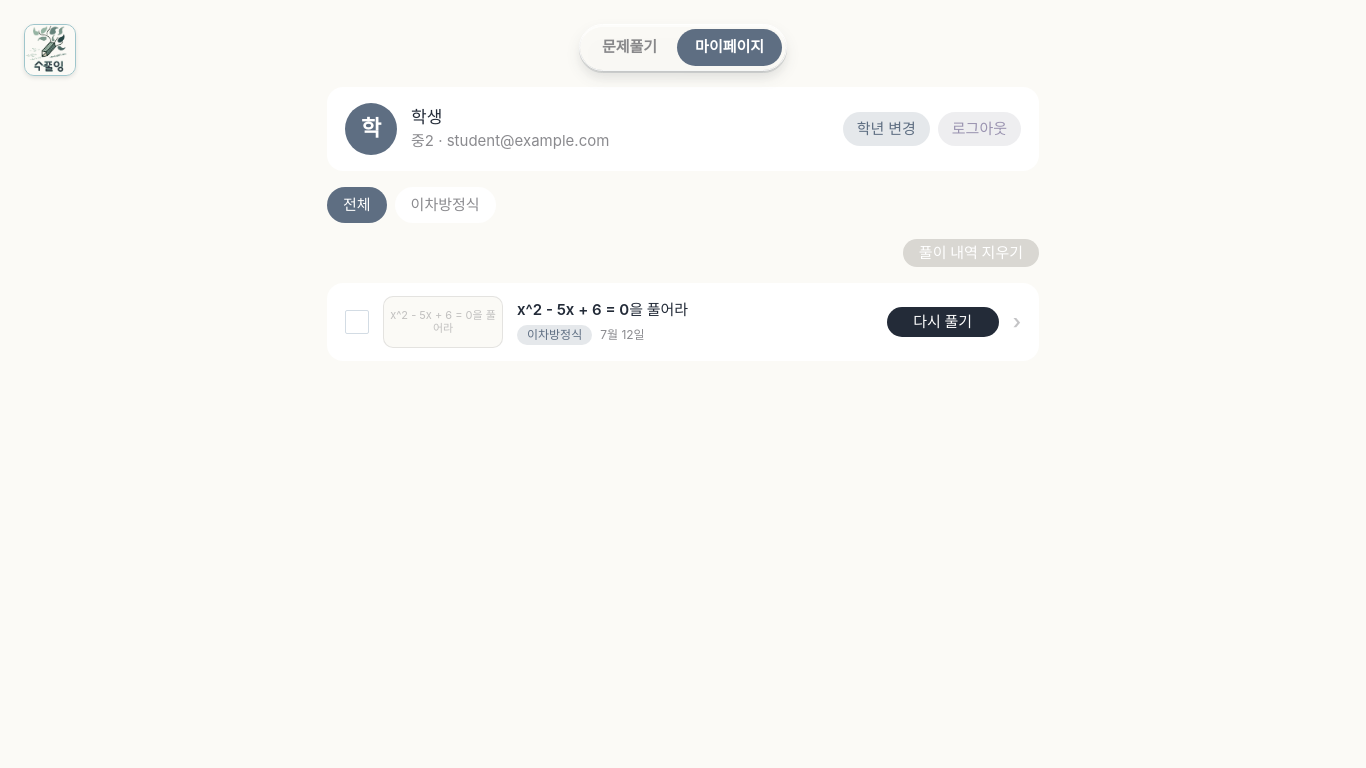
Test: 마이페이지 개선 4번 — History Row '다시풀기' 버튼을 누르면 /solve/pencilcanvas로 이동해 WORK 단계가 된다 › MyPage에서 '다시풀기'를 누르면 /solve/pencilcanvas로 이동하고 곧바로 WORK 단계가 된다
Click the button with aria-label "다시 풀기 x^2 - 5x + 6 = 0을 풀어라" at (943, 322), box 887,307 -> 999,337
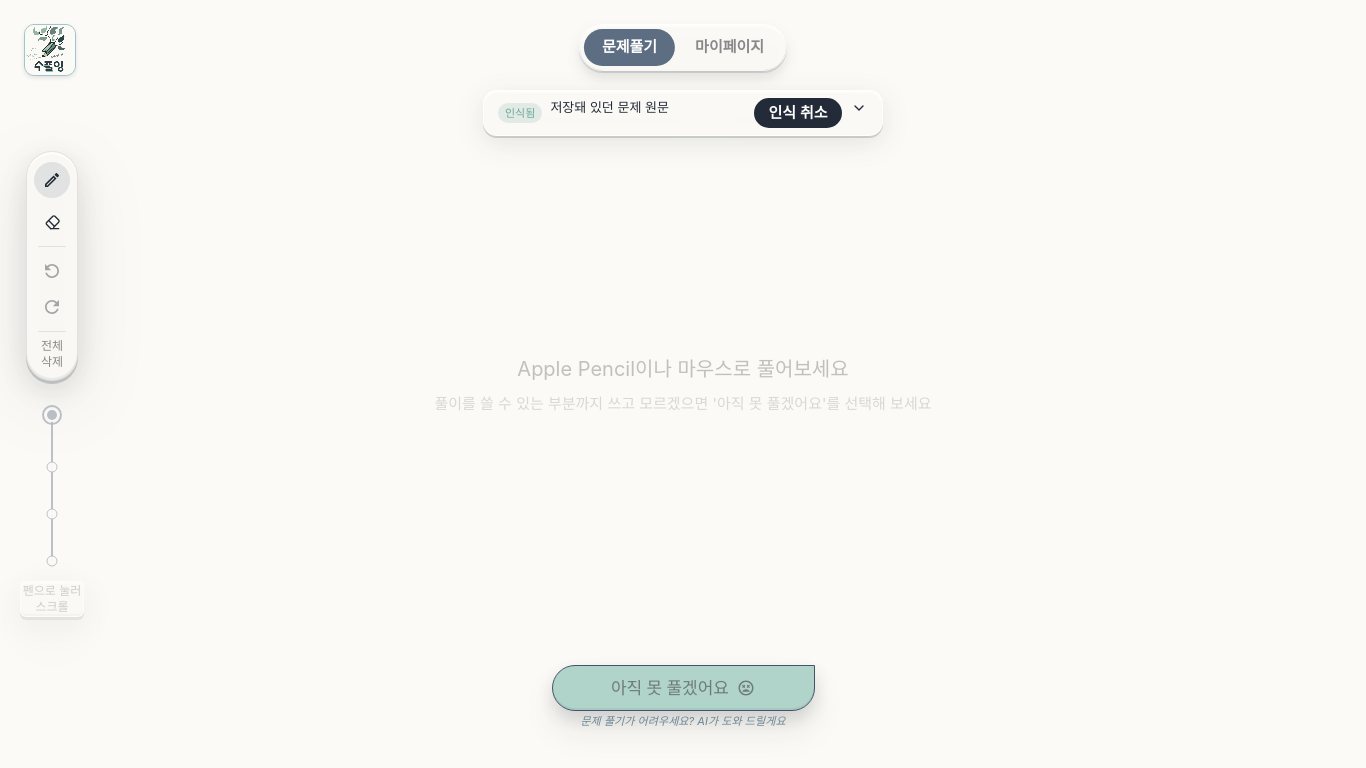
Expected: the button "아직 못 풀겠어요" is enabled, 552,665 -> 814,711
Expected: the text "저장돼 있던 문제 원문" is shown, 550,99 -> 669,115
